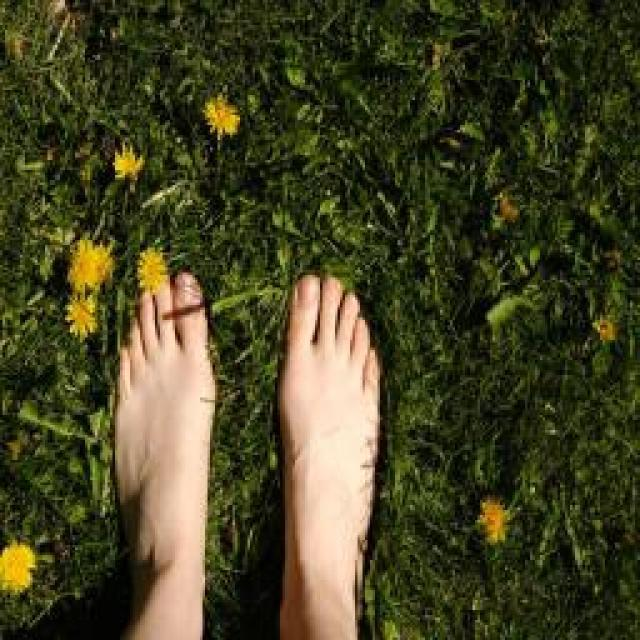No_Shoes: (247, 222, 435, 604), (77, 256, 234, 596)
